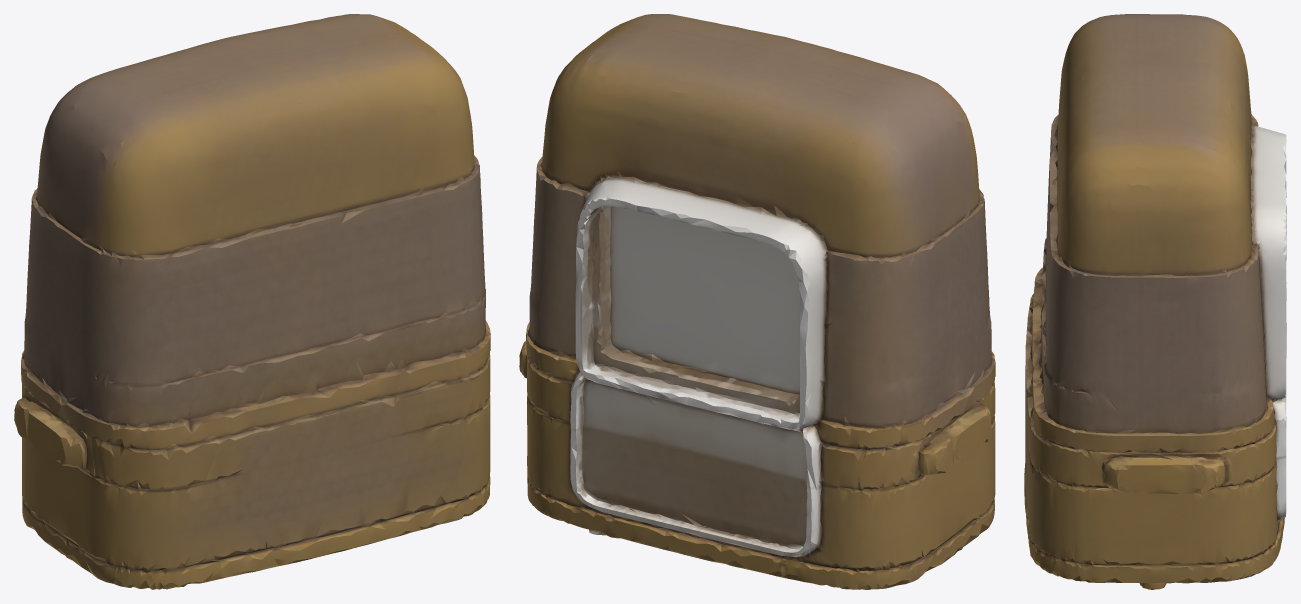
The model's file is Station_Offload.glb.
3 renders of one model, left to right at view 1: azimuth 30°, elevation 25°; view 2: azimuth 150°, elevation 25°; view 3: azimuth 270°, elevation 25°, orthographic. The views are drawn at different scales.
Parts seen in each view (by area): view 1: Station_Offload; view 2: Station_Offload; view 3: Station_Offload.
Part boxes in pixels (x1,y1,x2,y2): Station_Offload: (14,14,490,589); Station_Offload: (519,14,995,589); Station_Offload: (1024,14,1286,589).
Size of the model in its own units: 1.4 by 1.5 by 0.7985.
Materials: 1 (1 with a texture image).
